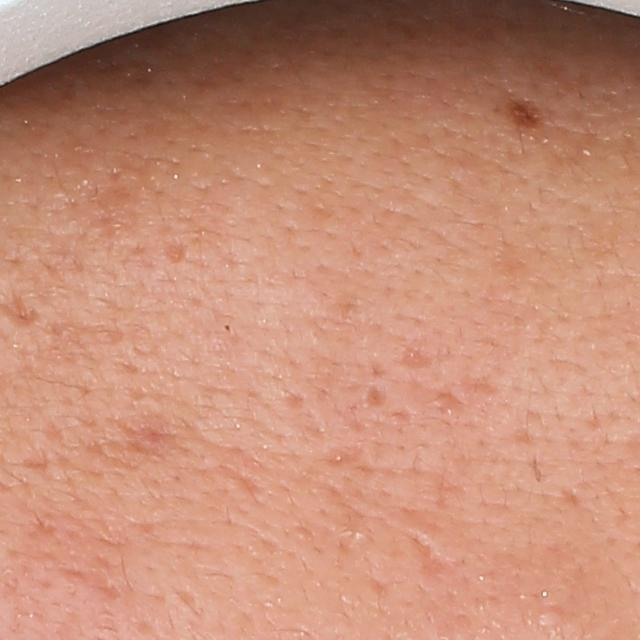atrophic_scar: (407, 531, 468, 596), (55, 565, 122, 604), (393, 331, 437, 370), (322, 444, 373, 472), (458, 374, 501, 404), (360, 381, 390, 411), (162, 236, 186, 265)
nevus: (504, 91, 547, 131)
